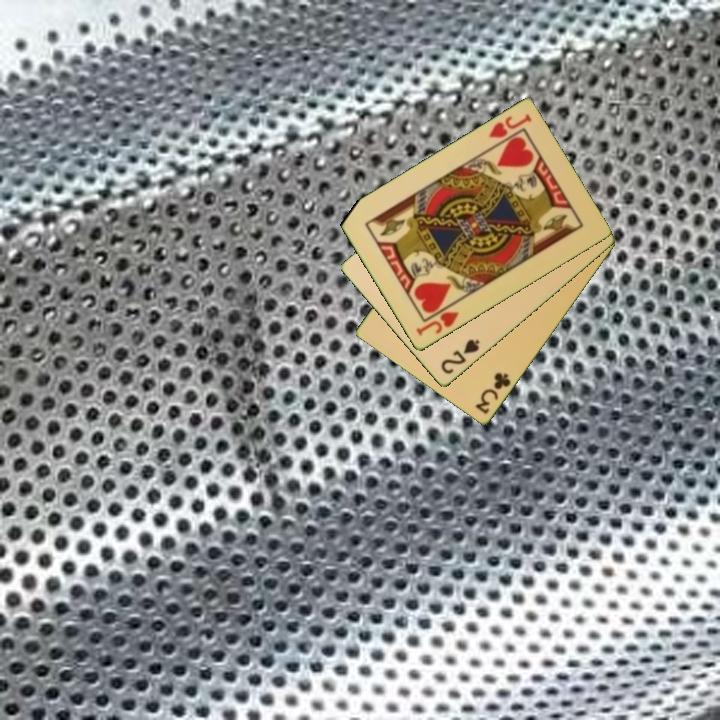2s: (437, 336, 483, 377)
3c: (472, 369, 514, 417)
Jh: (412, 308, 462, 339), (485, 111, 534, 142)
